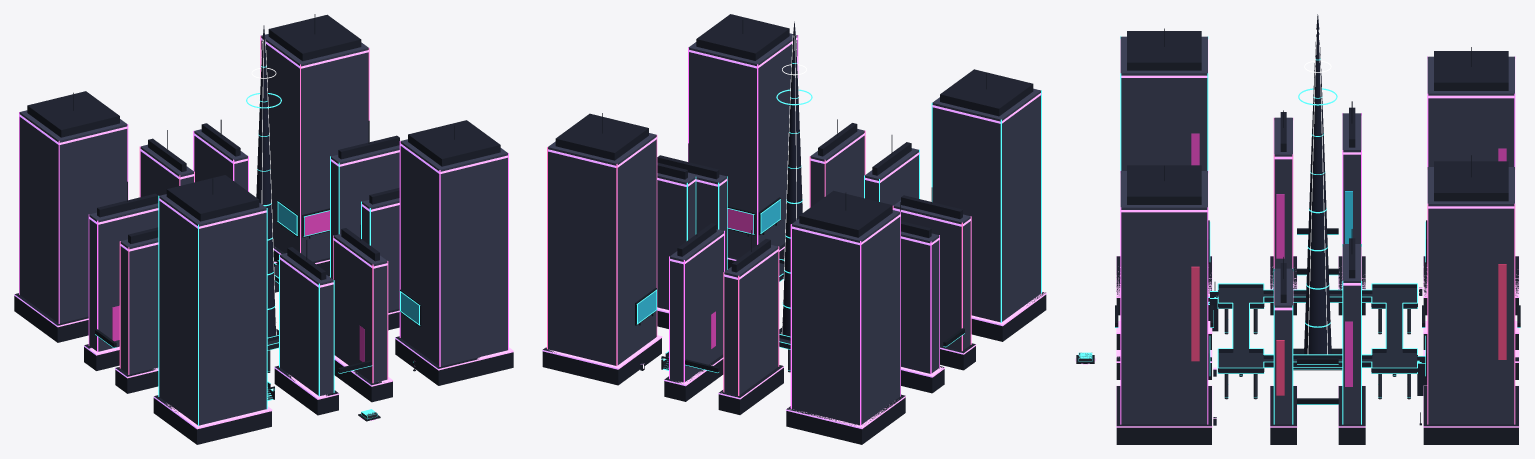
The picture shows the model from 3 angles, left to right: view 1: azimuth 30°, elevation 25°; view 2: azimuth 150°, elevation 25°; view 3: azimuth 270°, elevation 25°; orthographic projection. The views are drawn at different scales.
Parts seen in each view (by area): view 1: district_city_cero.lod0; view 2: district_city_cero.lod0; view 3: district_city_cero.lod0.
Part boxes in pixels (left/top/right/bottom): district_city_cero.lod0: left=14, top=14, right=513, bottom=444; district_city_cero.lod0: left=542, top=14, right=1046, bottom=444; district_city_cero.lod0: left=1075, top=14, right=1520, bottom=444.
Bounding box in the file's own units: 97.85 × 92.01 × 107.
